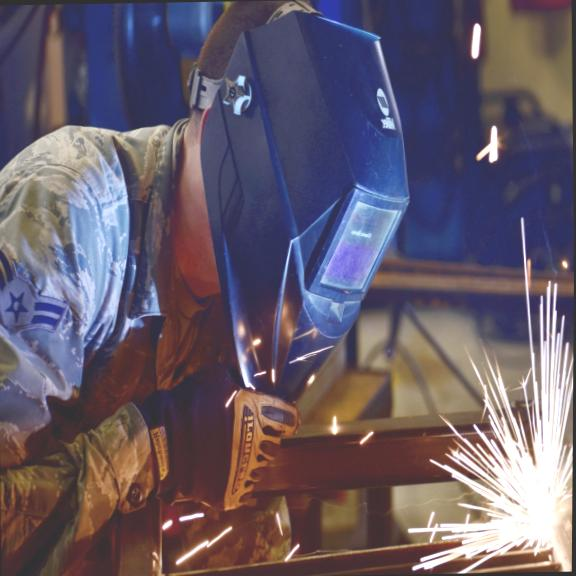no_safety_vest: (0, 73, 252, 537)
